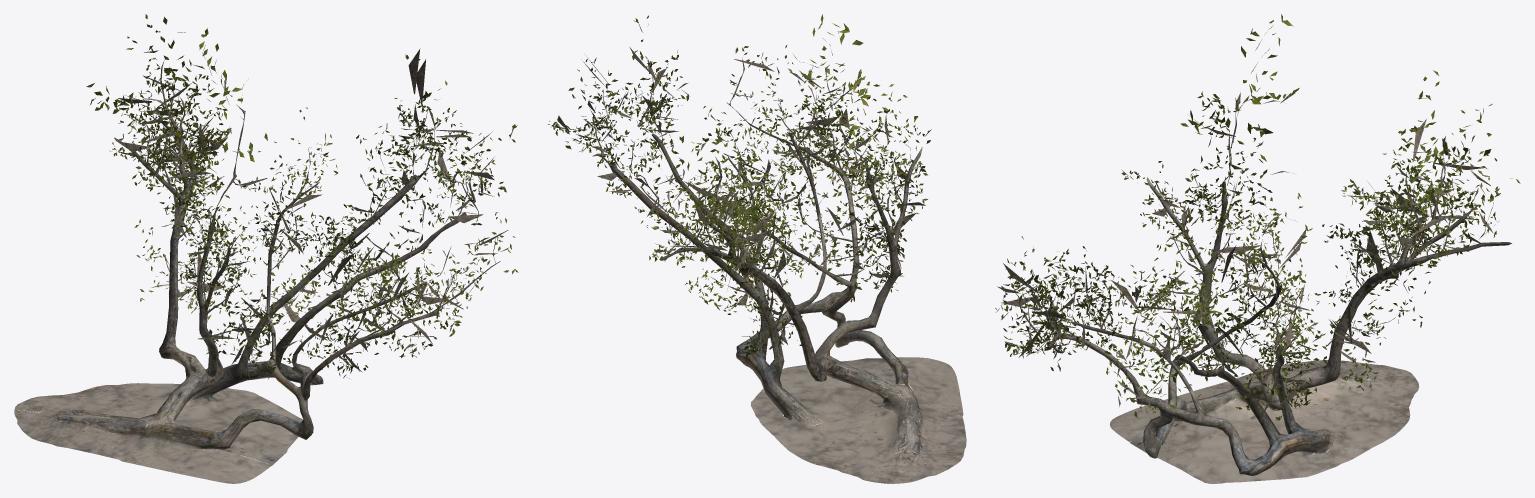
File: scruboak.glb
3 renders of one model, left to right at view 1: azimuth 30°, elevation 25°; view 2: azimuth 150°, elevation 25°; view 3: azimuth 270°, elevation 25°, orthographic. The views are drawn at different scales.
Visible parts, largest first — view 1: island_tree_03_LOD0; view 2: island_tree_03_LOD0; view 3: island_tree_03_LOD0.
Part boxes in pixels (<box>): island_tree_03_LOD0: <box>14,14,518,483</box>; island_tree_03_LOD0: <box>548,14,966,483</box>; island_tree_03_LOD0: <box>995,14,1520,483</box>.
Bounding box in the file's own units: 2.96 × 2.6 × 2.86.
Materials: 3 (3 with a texture image).
